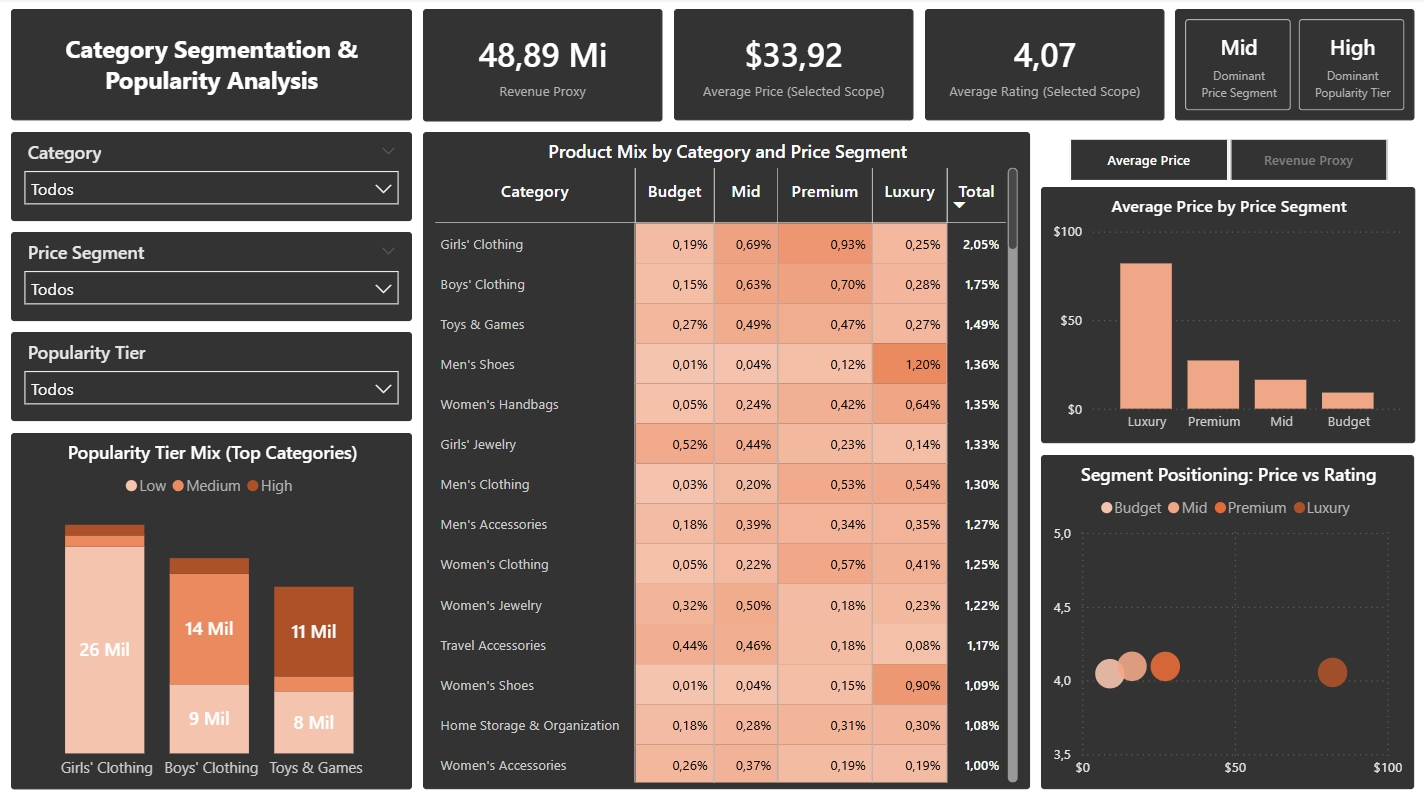

This screenshot's page, from the dashboard's own definition file:
{"tool":"powerbi","page":{"name":"Market Segmentation","canvas":[1280,720],"ordinal":1},"visuals":[{"type":"pivotTable","title":"Product Mix by Category and Price Segment","fields":{"Rows":["dash_category_segment_tier.category_name"],"Columns":["dim_segment.price_segment"],"Values":["Medidas.Product (Selected Scope)"]},"box":[380,120.3,545,590],"z":0},{"type":"cardVisual","fields":{"Data":["Medidas.Segmento Dominante","Medidas.Tier Dominante"]},"box":[1055,10,215,100],"z":1000},{"type":"cardVisual","fields":{"Data":["Medidas.Preço Médio (recorte)"]},"box":[605,10,215,100],"z":2000},{"type":"cardVisual","fields":{"Data":["Medidas.Avaliação Média (recorte)"]},"box":[830,10,215,100],"z":3000},{"type":"textbox","box":[10,10,360,100],"z":4000},{"type":"columnChart","title":"Popularity Tier Mix (Top Categories)","fields":{"Category":["dash_category_segment_tier.category_name"],"Series":["dim_tier.popularity_tier"],"Y":["Sum(dash_category_segment_tier.products)"]},"box":[10,390.5,360,320],"z":5000},{"type":"slicer","fields":{"Values":["dim_segment.price_segment"]},"box":[10,210.1,360,80],"z":6000},{"type":"slicer","fields":{"Values":["dim_tier.popularity_tier"]},"box":[10,300,360,80],"z":7000},{"type":"scatterChart","title":"Segment Positioning: Price vs Rating","fields":{"X":["Medidas.Preço Médio (recorte)"],"Y":["Medidas.Avaliação Média (recorte)"],"Series":["dim_segment.price_segment"]},"box":[935,410,335,300],"z":8000},{"type":"slicer","fields":{"Values":["dash_category_segment_tier.category_name"]},"box":[10,120,360,80],"z":9000},{"type":"cardVisual","fields":{"Data":["Medidas.Revenue Proxy"]},"box":[380,10,215,100.5],"z":10000},{"type":"slicer","fields":{"Values":["average_or_revenue.average_or_revenue"]},"box":[935,120.3,335,50],"z":11000},{"type":"clusteredColumnChart","fields":{"Y":["Medidas.Average Price (Selected Scope)"],"Category":["dim_segment.price_segment"]},"box":[935,170,335.8,230],"z":12000}]}

Visuals, with their boxes in screenshot pixels (x1, y1, x2, y2), scaled from the page's 1280x720 canvas onto the 1424x799 screenshot:
"Product Mix by Category and Price Segment" pivotTable: <box>423,133,1029,788</box>
cardVisual - Medidas.Segmento Dominante x Medidas.Tier Dominante: <box>1174,11,1413,122</box>
cardVisual - Medidas.Preço Médio (recorte): <box>673,11,912,122</box>
cardVisual - Medidas.Avaliação Média (recorte): <box>923,11,1163,122</box>
textbox: <box>11,11,412,122</box>
"Popularity Tier Mix (Top Categories)" columnChart: <box>11,433,412,788</box>
slicer - dim_segment.price_segment: <box>11,233,412,322</box>
slicer - dim_tier.popularity_tier: <box>11,333,412,422</box>
"Segment Positioning: Price vs Rating" scatterChart: <box>1040,455,1413,788</box>
slicer - dash_category_segment_tier.category_name: <box>11,133,412,222</box>
cardVisual - Medidas.Revenue Proxy: <box>423,11,662,123</box>
slicer - average_or_revenue.average_or_revenue: <box>1040,133,1413,189</box>
clusteredColumnChart - Medidas.Average Price (Selected Scope) x dim_segment.price_segment: <box>1040,189,1414,444</box>
